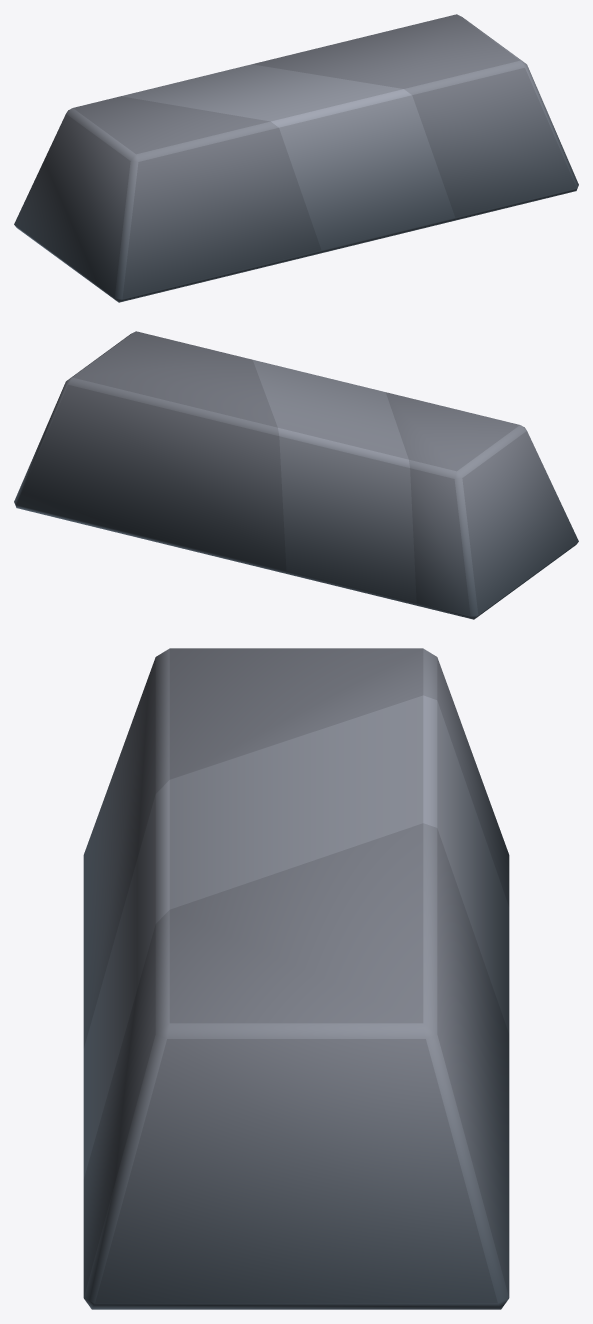
File: Ingot_Iron_1.glb
3 renders of one model, top to bottom at view 1: azimuth 30°, elevation 25°; view 2: azimuth 150°, elevation 25°; view 3: azimuth 270°, elevation 25°, orthographic. The views are drawn at different scales.
Parts seen in each view (by area): view 1: Ingot_Iron_1; view 2: Ingot_Iron_1; view 3: Ingot_Iron_1.
Part boxes in pixels (left/top/right/bottom): Ingot_Iron_1: left=14, top=14, right=578, bottom=302; Ingot_Iron_1: left=14, top=331, right=578, bottom=619; Ingot_Iron_1: left=83, top=648, right=509, bottom=1309.
Size of the model in its own units: 0.994 by 0.256 by 0.3944.
